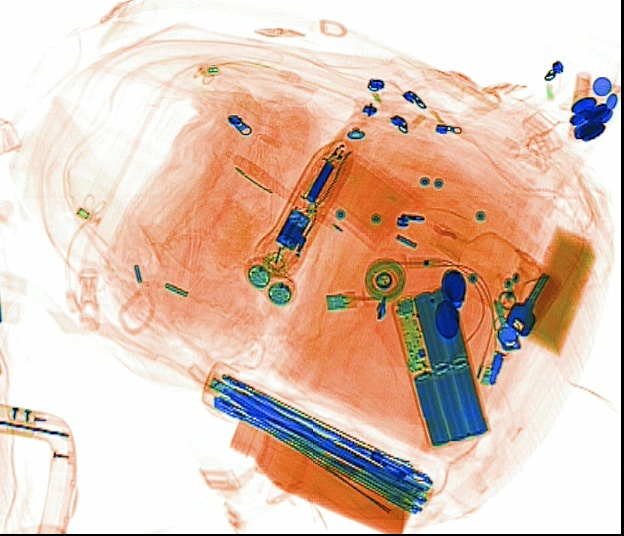powerbank: (389, 282, 490, 447)
